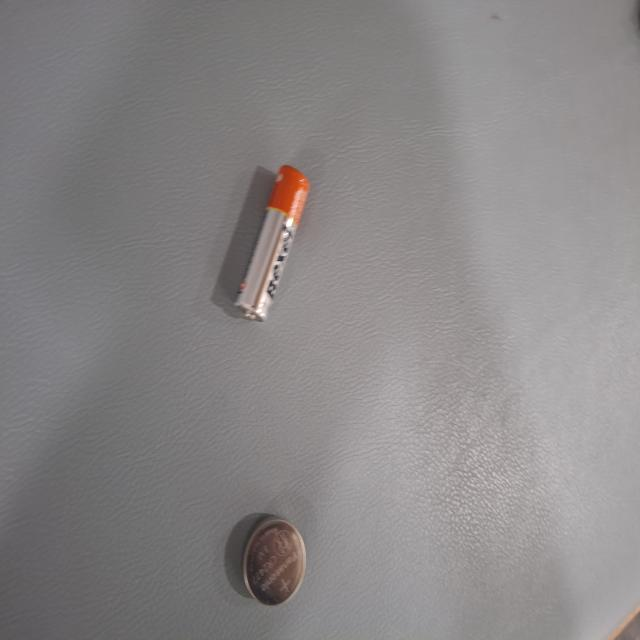AA: (123, 440, 242, 541)
COIN: (387, 445, 456, 530)
